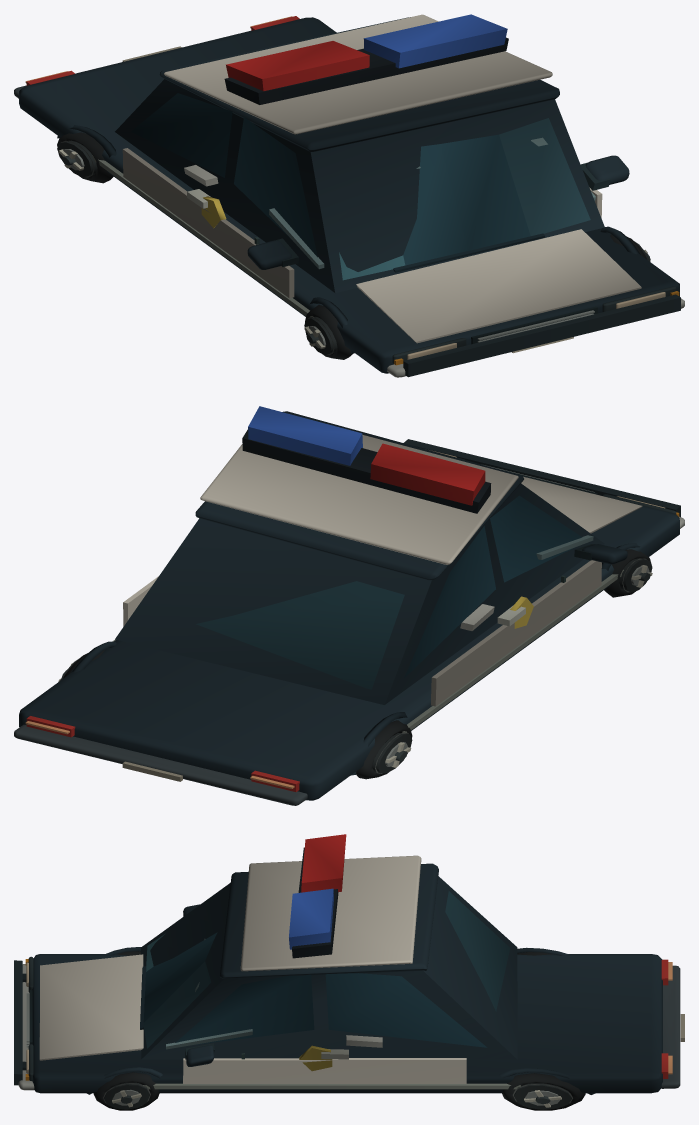
File: police.glb
The picture shows the model from 3 angles, top to bottom: view 1: azimuth 30°, elevation 25°; view 2: azimuth 150°, elevation 25°; view 3: azimuth 270°, elevation 25°; orthographic projection. The views are drawn at different scales.
Visible parts, largest first — view 1: police_body; view 2: police_body; view 3: police_body.
Boxes of the visible parts, x1,y1,x2,y2 form: police_body: (14, 14, 684, 377); police_body: (14, 406, 684, 805); police_body: (14, 834, 684, 1110).
Bounding box in the file's own units: 2.33 × 1.13 × 4.24.
